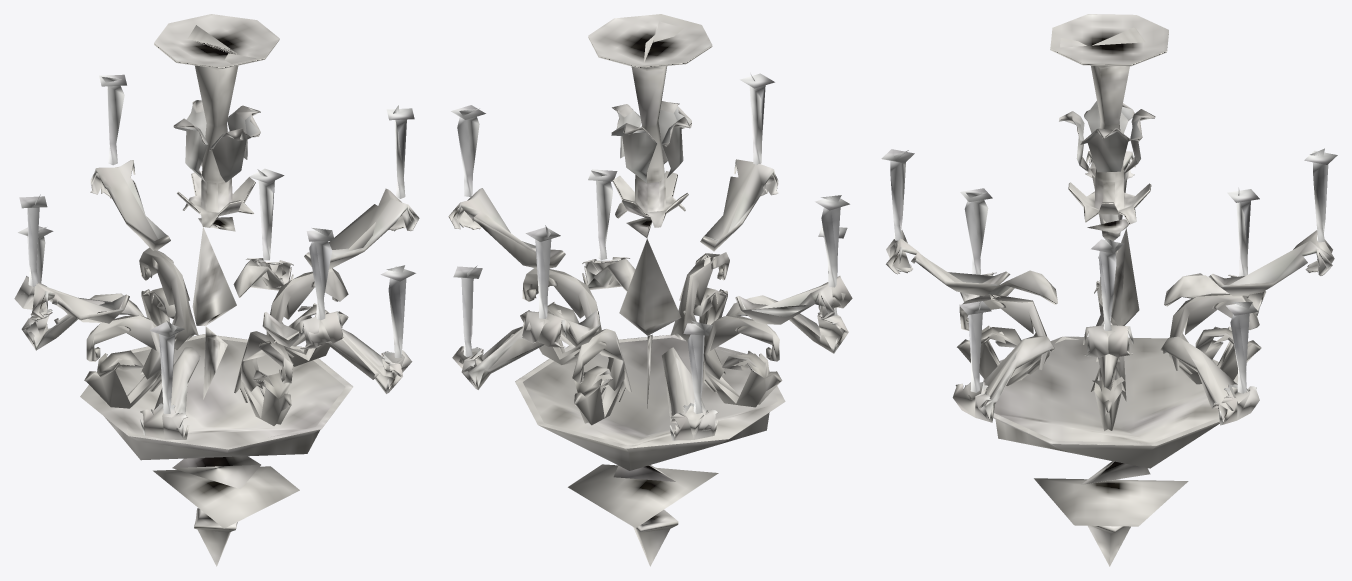
Rendered from chandelier.glb.
3 renders of one model, left to right at view 1: azimuth 30°, elevation 25°; view 2: azimuth 150°, elevation 25°; view 3: azimuth 270°, elevation 25°, orthographic.
Parts seen in each view (by area): view 1: chandelier; view 2: chandelier; view 3: chandelier.
Part boxes in pixels (box(x1,y1,x2,y2)): chandelier: box(14, 14, 419, 566); chandelier: box(448, 14, 852, 566); chandelier: box(881, 14, 1337, 566).
Bounding box in the file's own units: 0.6186 × 0.8 × 0.6179.
1 material, 1 textured.
